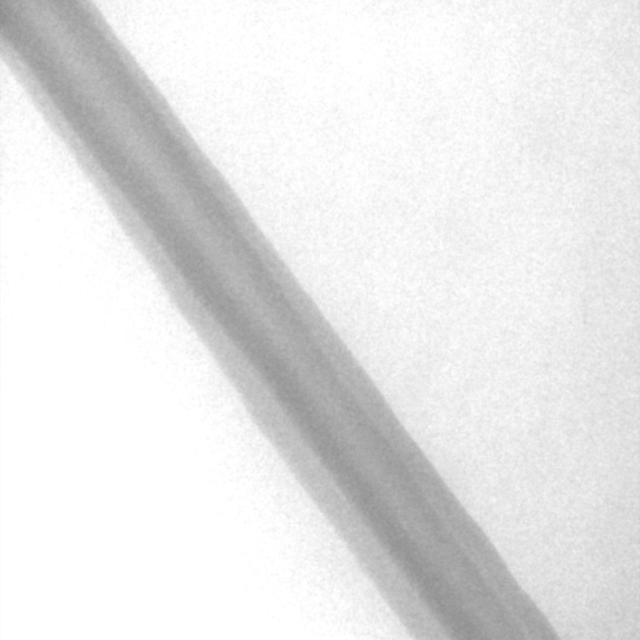air-hole: (408, 535, 418, 546)
